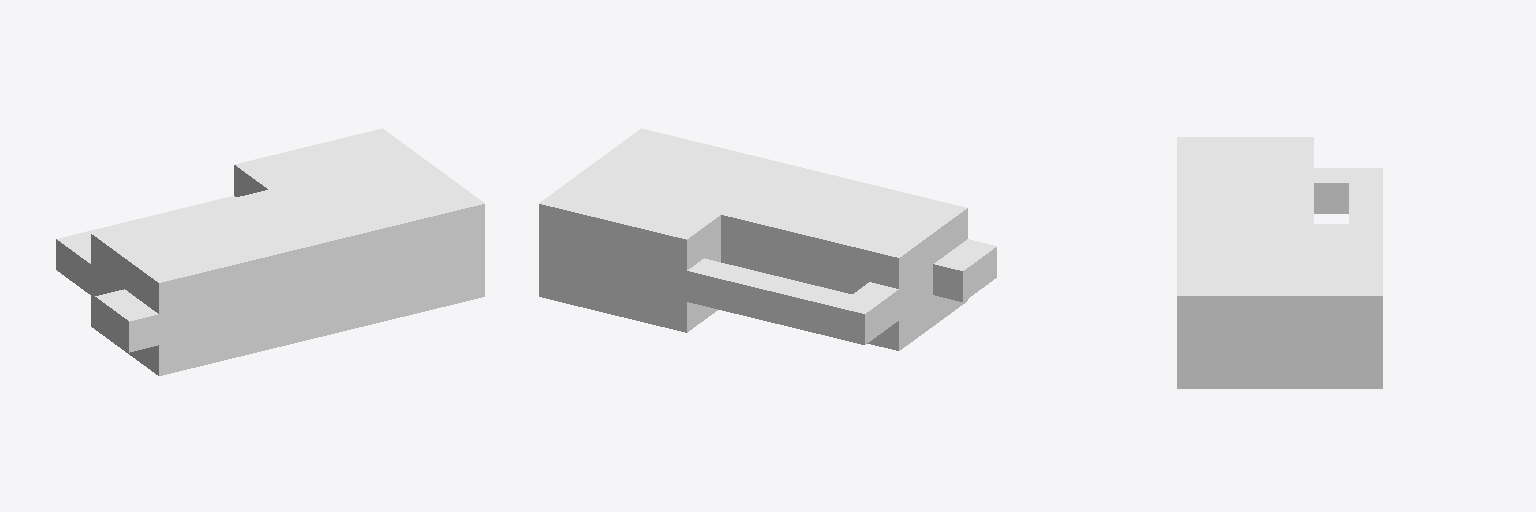
The model's file is Bmilk.obj.
The picture shows the model from 3 angles: view 1: azimuth 30°, elevation 25°; view 2: azimuth 150°, elevation 25°; view 3: azimuth 270°, elevation 25°; orthographic projection.
Parts seen in each view (by area): view 1: object 1; view 2: object 1; view 3: object 1.
Part boxes in pixels (bbox=[...]): object 1: bbox=[56, 128, 484, 375]; object 1: bbox=[539, 128, 996, 350]; object 1: bbox=[1177, 137, 1382, 388].
Bounding box in the file's own units: 1.2 × 0.3 × 0.6.